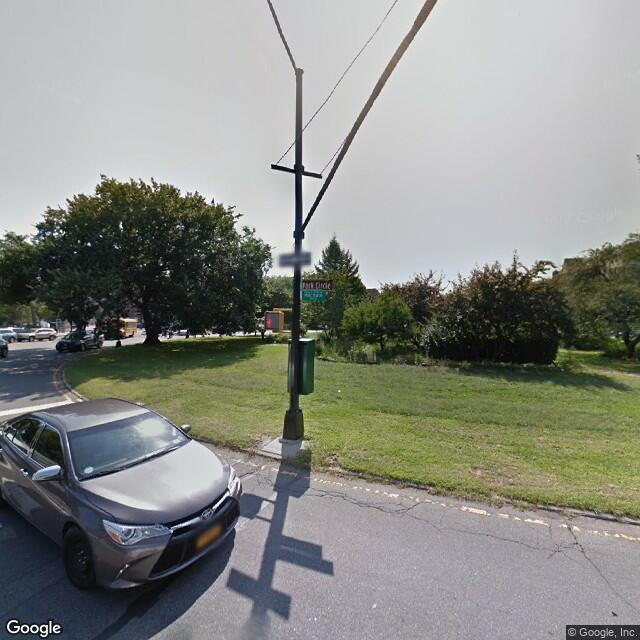litter: (452, 366, 460, 370), (337, 389, 342, 390)
